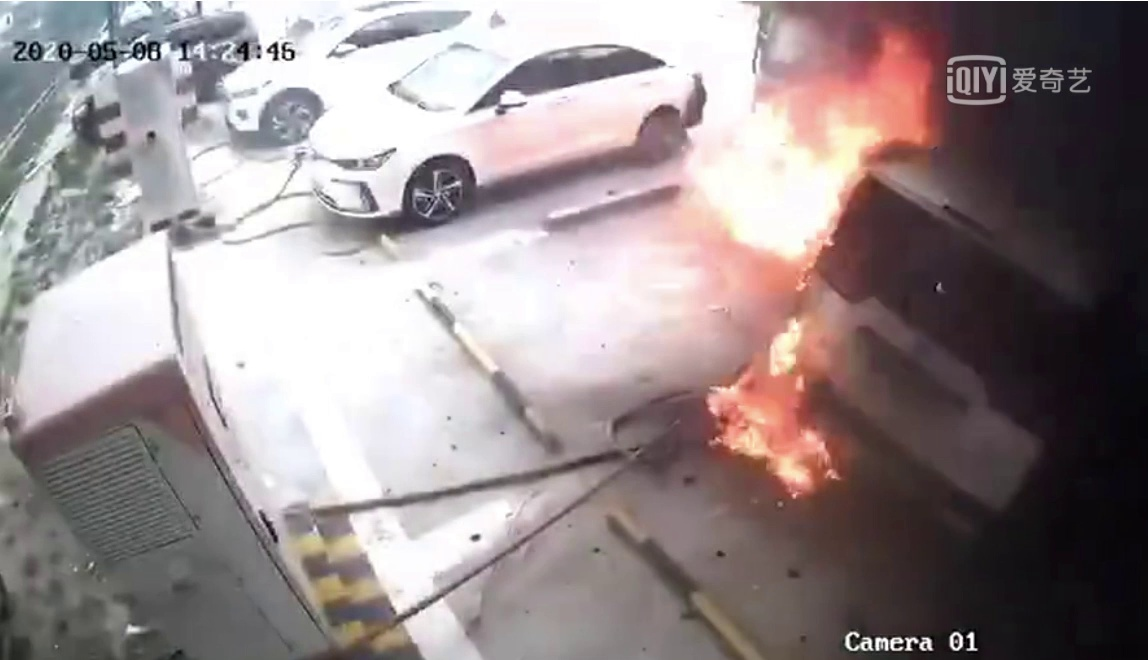fire: (683, 74, 877, 247), (710, 300, 858, 500)
